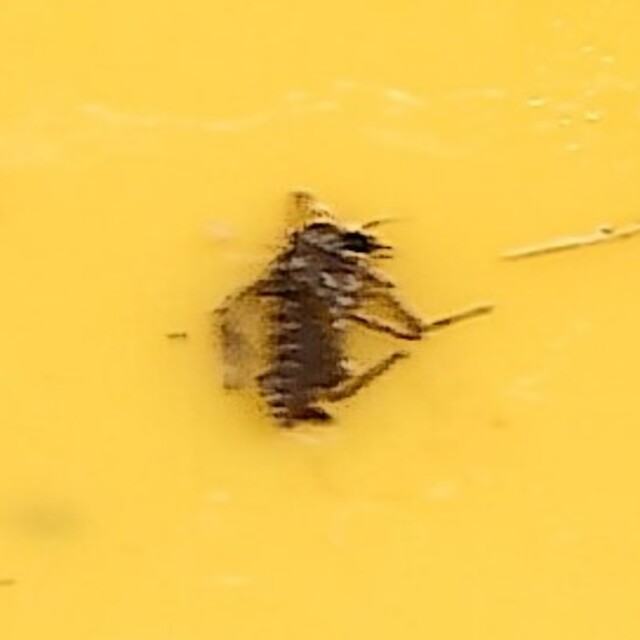Nematocera: (235, 196, 405, 444)
